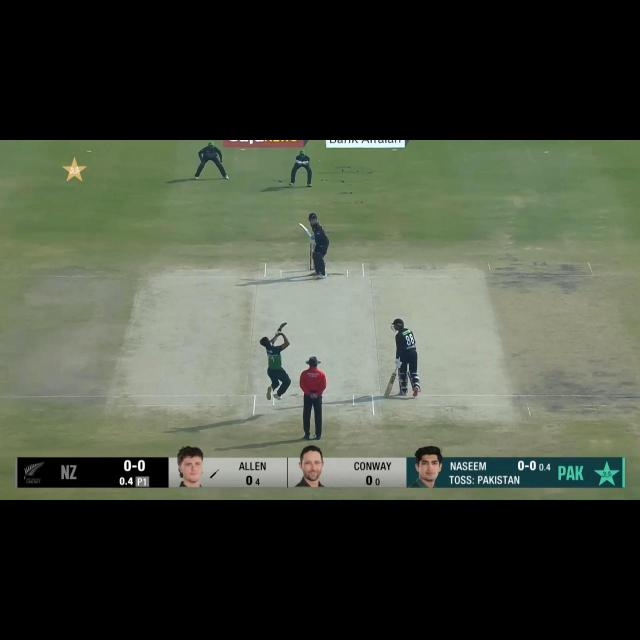bat: (384, 372, 397, 398), (298, 223, 312, 237)
toe: (383, 391, 392, 399), (298, 222, 305, 229)
